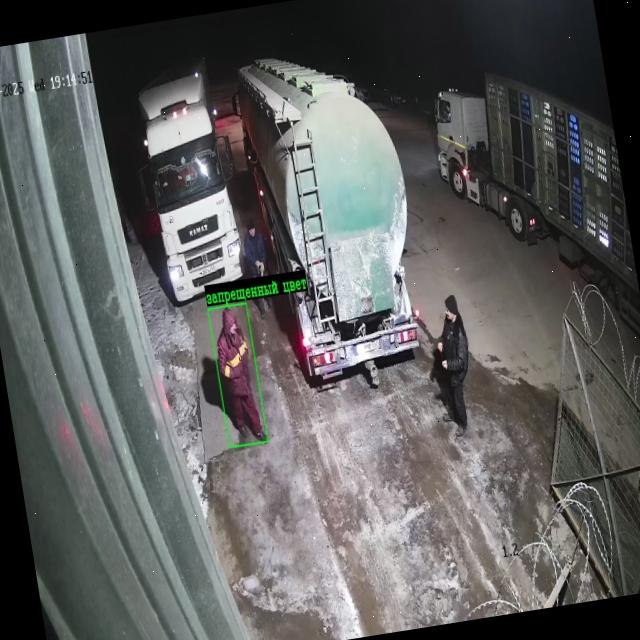Person: (434, 295, 469, 435), (244, 220, 267, 276), (257, 300, 264, 312)
Red uniform: (217, 309, 263, 440)
